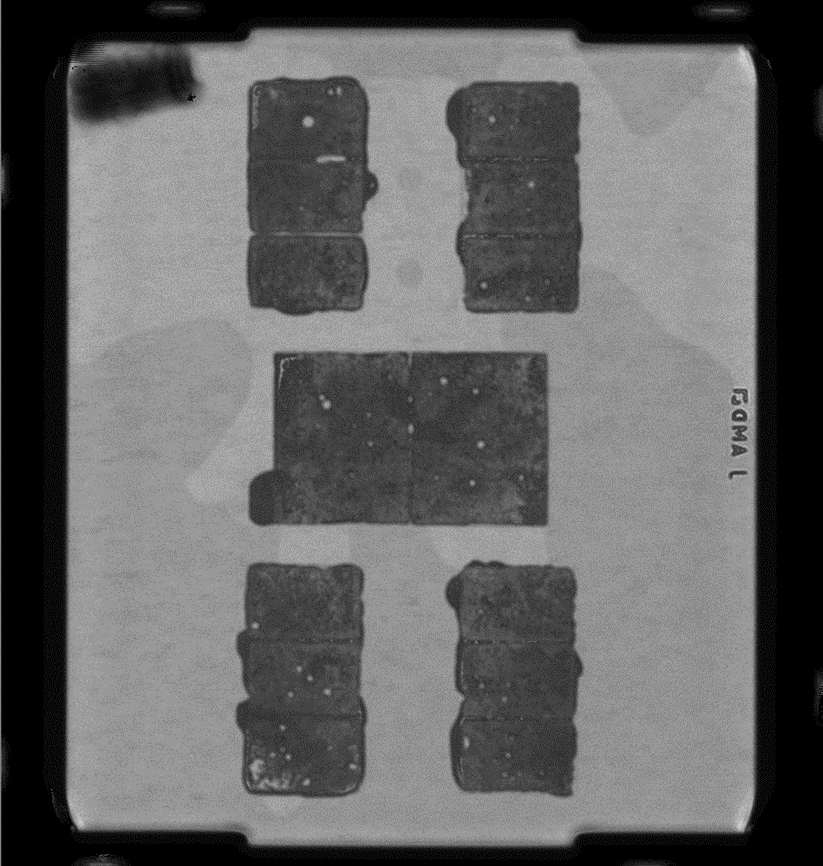CCD: (216, 64, 351, 142), (467, 64, 602, 142), (216, 144, 351, 222), (467, 144, 602, 222), (216, 729, 351, 807), (467, 729, 602, 807), (216, 225, 351, 302), (467, 225, 602, 302), (216, 569, 351, 646), (467, 569, 602, 646), (216, 649, 351, 726), (467, 649, 602, 726)
IOD: (247, 344, 572, 527)
